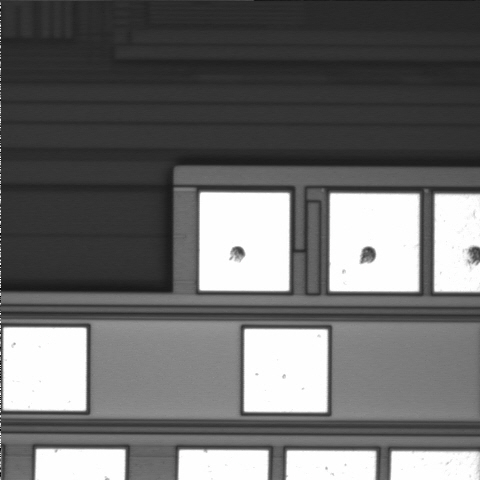pad: (199, 192, 290, 291), (330, 193, 419, 292), (3, 327, 86, 411), (244, 329, 328, 412)
